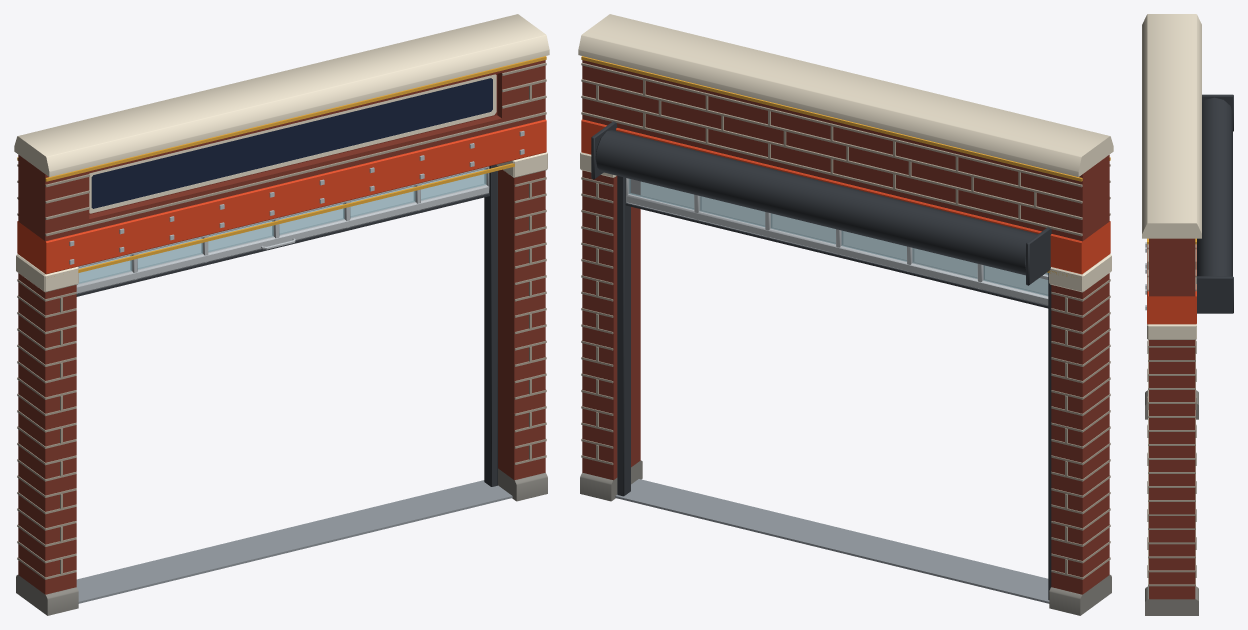
The model's file is Lobby_StoreFrontBay.fbx.
3 views of the same model, side by side, from view 1: azimuth 30°, elevation 25°; view 2: azimuth 150°, elevation 25°; view 3: azimuth 270°, elevation 25° (orthographic). The views are drawn at different scales.
Visible parts, largest first — view 1: Brick, Cream, Header, SignBand, Threshold, Mortar, Aluminium, Steel, DoorGlass, Pinstripe, Plinth; view 2: Brick, Steel, Cream, Mortar, Threshold, DoorGlass, Aluminium, Header, Plinth, Pinstripe; view 3: Cream, Brick, Steel, Mortar, Header, Plinth.
Boxes of the visible parts, x1,y1,x2,y2 form: Brick: (18,60,545,594); Cream: (14,14,549,292); Header: (17,119,546,274); SignBand: (91,78,492,208); Threshold: (76,480,512,603); Mortar: (17,62,546,579); Aluminium: (69,131,524,293); Steel: (76,164,497,486); DoorGlass: (78,168,486,284); Pinstripe: (17,56,546,276); Plinth: (16,468,547,615); Brick: (582,60,1109,594); Steel: (591,121,1051,599); Cream: (578,14,1113,292); Mortar: (581,62,1110,579); Threshold: (615,479,1049,603); DoorGlass: (628,179,1048,295); Aluminium: (626,178,1048,305); Header: (581,119,1110,274); Plinth: (580,460,1111,615); Pinstripe: (581,56,1110,276); Cream: (1142,14,1201,339); Brick: (1149,238,1195,599); Steel: (1196,94,1233,313); Mortar: (1147,244,1196,586); Header: (1147,244,1196,324); Plinth: (1145,390,1198,615).
Bounding box in the file's own units: 1612 × 1400 × 297.
